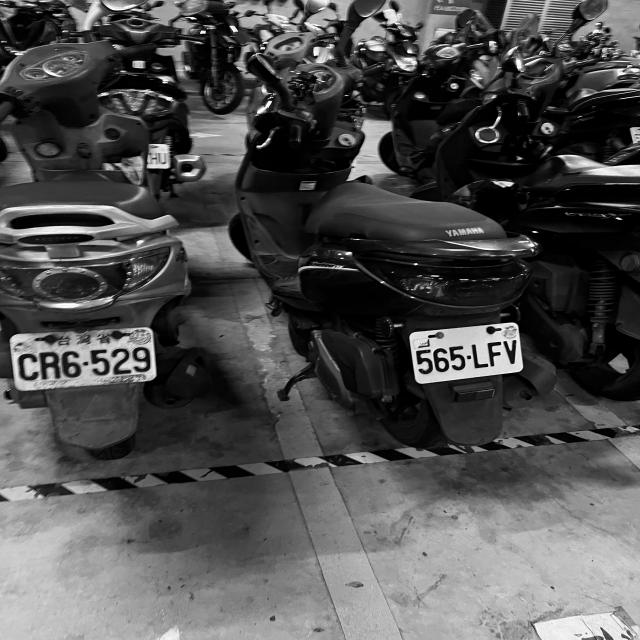-: (82, 359, 92, 367), (466, 353, 472, 359)
2: (111, 346, 132, 374)
5: (90, 348, 112, 376), (449, 345, 466, 371), (416, 350, 432, 374)
6: (62, 350, 82, 378), (432, 347, 450, 372)
9: (130, 344, 154, 374)
C: (16, 352, 40, 379)
F: (488, 342, 502, 368)
H: (148, 152, 158, 164)
L: (471, 341, 489, 369)
R: (40, 351, 62, 378)
U: (158, 152, 166, 164)
V: (502, 339, 520, 365)
plate: (13, 336, 156, 384), (415, 325, 522, 382)
